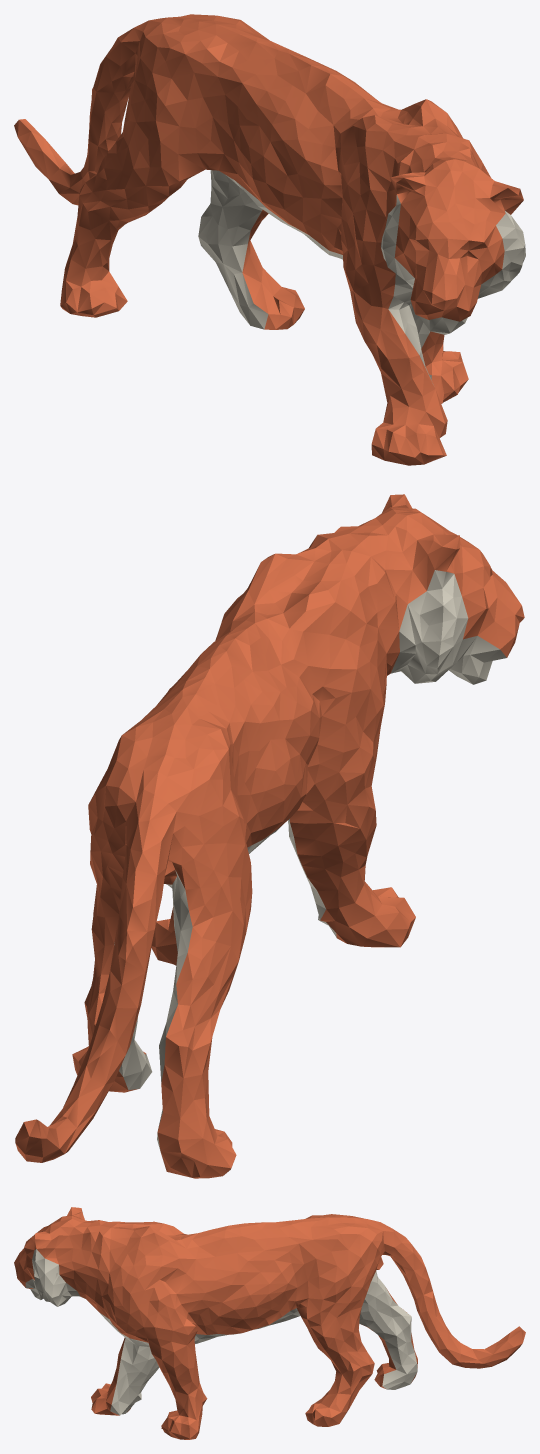
Rendered from sample_03.obj.
3 views of the same model, one above another, from view 1: azimuth 30°, elevation 25°; view 2: azimuth 150°, elevation 25°; view 3: azimuth 270°, elevation 25° (orthographic). The views are drawn at different scales.
Parts seen in each view (by area): view 1: tigre_sumatra_photoscan; view 2: tigre_sumatra_photoscan; view 3: tigre_sumatra_photoscan.
Boxes of the visible parts, x1,y1,x2,y2 form: tigre_sumatra_photoscan: [14, 14, 525, 465]; tigre_sumatra_photoscan: [15, 494, 524, 1178]; tigre_sumatra_photoscan: [14, 1207, 525, 1439].
Size of the model in its own units: 0.4833 by 0.6412 by 1.49.
